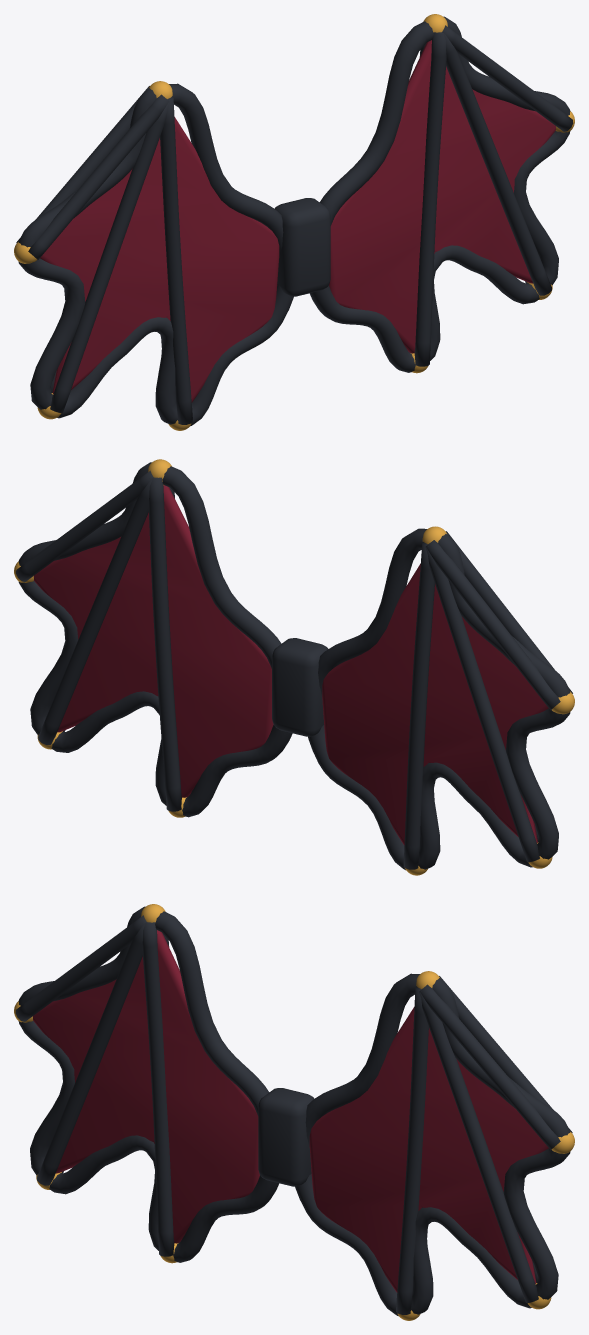
File: DragonWings.glb
The picture shows the model from 3 angles, top to bottom: view 1: azimuth 30°, elevation 25°; view 2: azimuth 150°, elevation 25°; view 3: azimuth 330°, elevation 25°; orthographic projection.
Visible parts, largest first — view 1: Burgundy wing membrane, Burgundy wing membrane.001, Rounded dark wing border, Rounded dark wing border.001, Wing structural rib.010, Wing structural rib.002, Wing structural rib.004, Central back mount, Wing structural rib.008, Wing structural rib, Wing structural rib.006, Wing structural rib.001; view 2: Burgundy wing membrane.001, Burgundy wing membrane, Rounded dark wing border, Rounded dark wing border.001, Wing structural rib.011, Wing structural rib.005, Wing structural rib.003, Central back mount, Wing structural rib.009, Wing structural rib.001, Wing structural rib.007, Wing structural rib; view 3: Burgundy wing membrane.001, Burgundy wing membrane, Rounded dark wing border.001, Rounded dark wing border, Wing structural rib.004, Wing structural rib.008, Wing structural rib.010, Central back mount, Wing structural rib.002, Wing structural rib.006, Wing structural rib, Wing structural rib.007.
Part boxes in pixels (x1,y1,x2,y2): Burgundy wing membrane: (40,116,279,402); Burgundy wing membrane.001: (329,40,555,353); Rounded dark wing border: (18,83,293,426); Rounded dark wing border.001: (309,16,570,372); Wing structural rib.010: (414,32,446,366); Wing structural rib.002: (50,101,169,412); Wing structural rib.004: (160,96,192,424); Central back mount: (274,198,330,296); Wing structural rib.008: (440,33,551,295); Wing structural rib: (28,94,169,259); Wing structural rib.006: (442,25,573,131); Wing structural rib.001: (16,86,149,242); Burgundy wing membrane.001: (33,485,273,797); Burgundy wing membrane: (322,564,548,845); Rounded dark wing border: (308,528,570,870); Rounded dark wing border.001: (18,462,292,817); Wing structural rib.011: (148,477,181,811); Wing structural rib.005: (403,541,434,869); Wing structural rib.003: (425,546,539,862); Central back mount: (272,638,328,736); Wing structural rib.009: (38,479,152,744); Wing structural rib.001: (426,540,560,710); Wing structural rib.007: (16,470,153,581); Wing structural rib: (446,531,572,693); Burgundy wing membrane.001: (309,1006,548,1292); Burgundy wing membrane: (33,930,259,1243); Rounded dark wing border.001: (295,973,570,1316); Rounded dark wing border: (18,906,279,1262); Wing structural rib.004: (142,922,174,1256); Wing structural rib.008: (419,991,538,1302); Wing structural rib.010: (396,986,428,1314); Central back mount: (258,1088,314,1186); Wing structural rib.002: (37,923,148,1185); Wing structural rib.006: (419,984,560,1149); Wing structural rib: (15,915,146,1021); Wing structural rib.007: (439,976,572,1132).
Size of the model in its own units: 0.73 by 0.44 by 0.0607.
